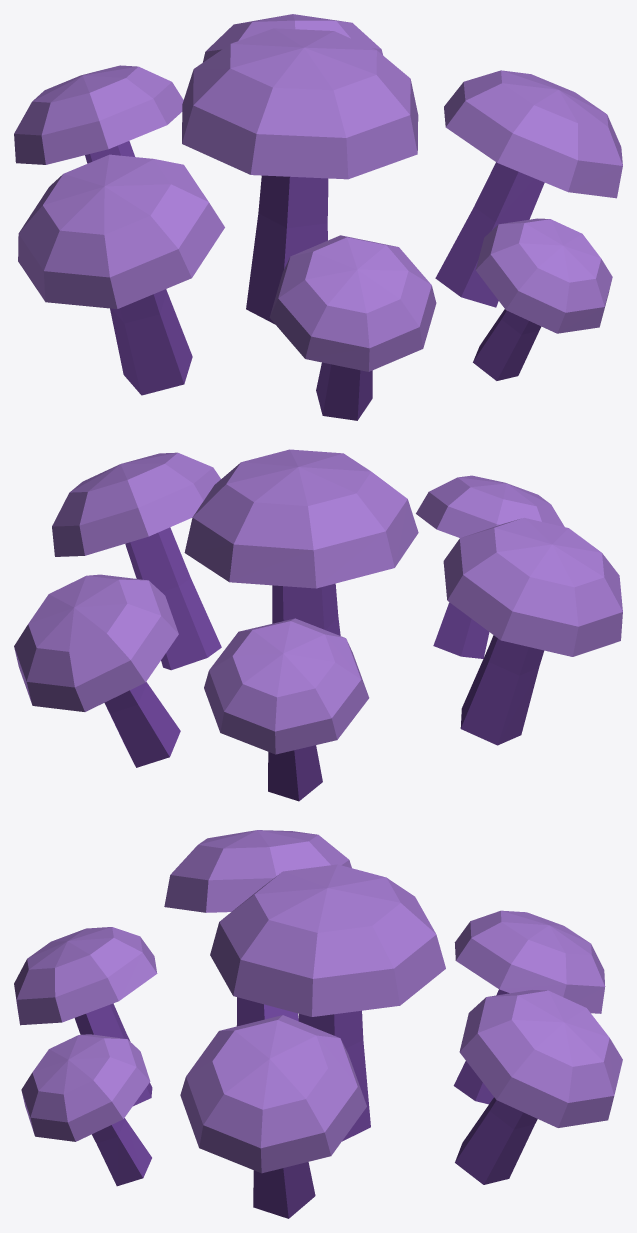
The model's file is plant_psilocap_b.obj.
3 renders of one model, top to bottom at view 1: azimuth 30°, elevation 25°; view 2: azimuth 150°, elevation 25°; view 3: azimuth 270°, elevation 25°, orthographic. The views are drawn at different scales.
Visible parts, largest first — view 1: plant_psilocap_b_1, plant_psilocap_b_3, plant_psilocap_b_11, plant_psilocap_b_5, plant_psilocap_b_13, plant_psilocap_b_7, plant_psilocap_b_0, plant_psilocap_b_2, plant_psilocap_b_4, plant_psilocap_b_12, plant_psilocap_b_10, plant_psilocap_b_9; view 2: plant_psilocap_b_1, plant_psilocap_b_3, plant_psilocap_b_7, plant_psilocap_b_9, plant_psilocap_b_5, plant_psilocap_b_2, plant_psilocap_b_4, plant_psilocap_b_11, plant_psilocap_b_8, plant_psilocap_b_0, plant_psilocap_b_6, plant_psilocap_b_10; view 3: plant_psilocap_b_1, plant_psilocap_b_5, plant_psilocap_b_9, plant_psilocap_b_13, plant_psilocap_b_7, plant_psilocap_b_11, plant_psilocap_b_3, plant_psilocap_b_8, plant_psilocap_b_4, plant_psilocap_b_0, plant_psilocap_b_12, plant_psilocap_b_10 (+2 smaller).
Boxes of the visible parts, x1,y1,x2,y2 form: plant_psilocap_b_1: (182, 28, 418, 179); plant_psilocap_b_3: (18, 154, 224, 309); plant_psilocap_b_11: (269, 235, 436, 371); plant_psilocap_b_5: (444, 70, 622, 198); plant_psilocap_b_13: (475, 218, 612, 333); plant_psilocap_b_7: (14, 65, 183, 164); plant_psilocap_b_0: (246, 175, 328, 324); plant_psilocap_b_2: (110, 289, 192, 395); plant_psilocap_b_4: (435, 162, 544, 307); plant_psilocap_b_12: (473, 309, 541, 380); plant_psilocap_b_10: (316, 362, 372, 420); plant_psilocap_b_9: (203, 14, 383, 62); plant_psilocap_b_1: (184, 449, 418, 588); plant_psilocap_b_3: (443, 517, 622, 656); plant_psilocap_b_7: (204, 618, 369, 754); plant_psilocap_b_9: (14, 574, 178, 711); plant_psilocap_b_5: (52, 452, 220, 556); plant_psilocap_b_2: (460, 635, 543, 745); plant_psilocap_b_4: (125, 527, 221, 670); plant_psilocap_b_11: (416, 475, 564, 537); plant_psilocap_b_8: (104, 682, 180, 767); plant_psilocap_b_0: (272, 583, 340, 635); plant_psilocap_b_6: (268, 745, 322, 801); plant_psilocap_b_10: (433, 602, 489, 658); plant_psilocap_b_1: (210, 864, 445, 1016); plant_psilocap_b_5: (180, 1015, 366, 1173); plant_psilocap_b_9: (459, 990, 622, 1127); plant_psilocap_b_13: (21, 1034, 150, 1141); plant_psilocap_b_7: (454, 910, 605, 1013); plant_psilocap_b_11: (14, 927, 157, 1025); plant_psilocap_b_3: (164, 830, 351, 912); plant_psilocap_b_8: (455, 1097, 537, 1184); plant_psilocap_b_4: (253, 1162, 315, 1218); plant_psilocap_b_0: (298, 1010, 370, 1141); plant_psilocap_b_12: (92, 1118, 151, 1186); plant_psilocap_b_10: (74, 1003, 152, 1106).
Size of the model in its own units: 1.55 by 0.6885 by 1.49.
